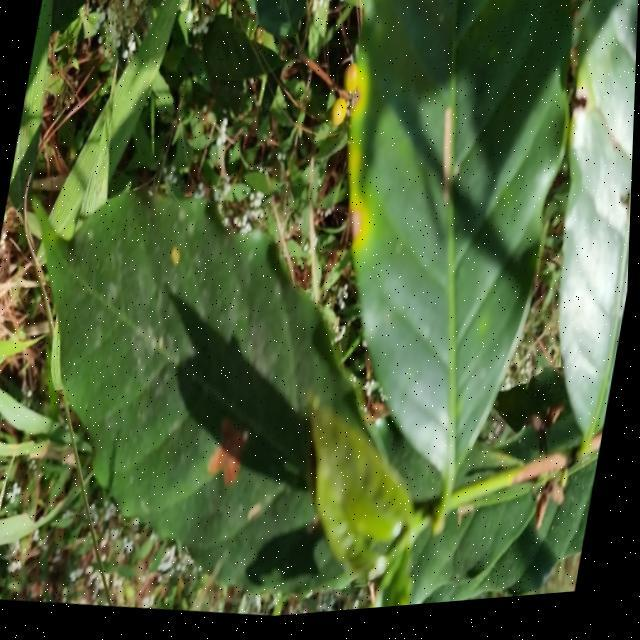leaves: (0, 138, 431, 640), (317, 0, 579, 501)
